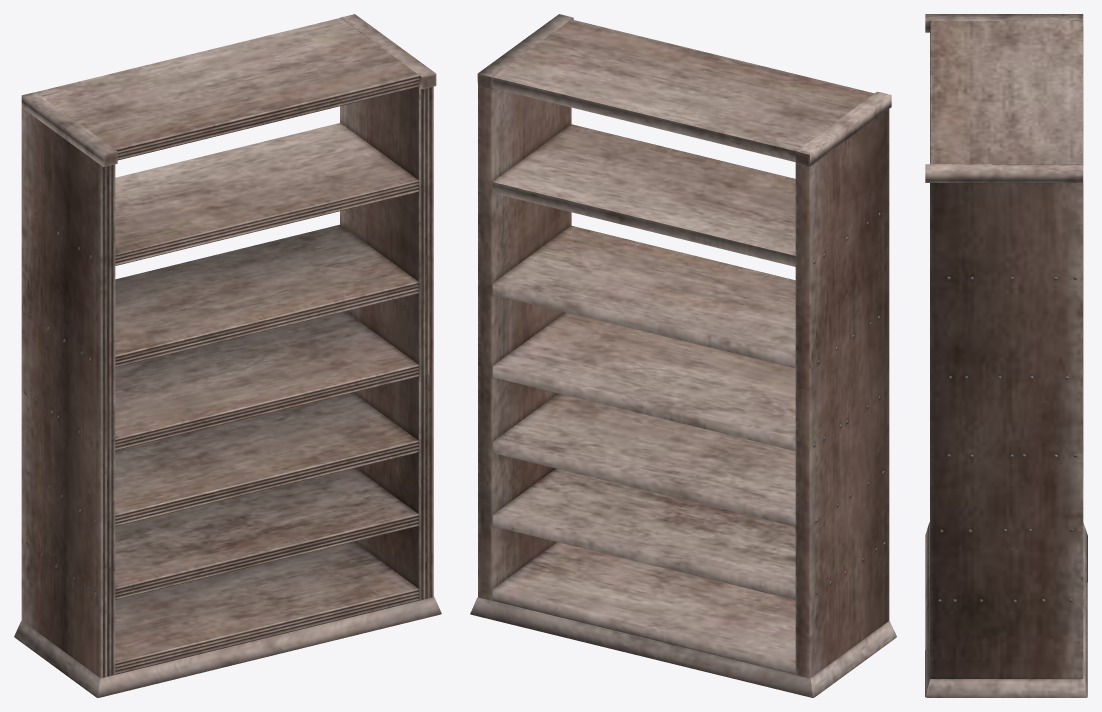
The model's file is bookshelf.glb.
3 views of the same model, side by side, from view 1: azimuth 30°, elevation 25°; view 2: azimuth 150°, elevation 25°; view 3: azimuth 270°, elevation 25° (orthographic). The views are drawn at different scales.
Parts seen in each view (by area): view 1: wooden_bookshelf_worn; view 2: wooden_bookshelf_worn; view 3: wooden_bookshelf_worn.
Part boxes in pixels (x1=…): wooden_bookshelf_worn: x1=14, y1=14, x2=441, y2=697; wooden_bookshelf_worn: x1=470, y1=14, x2=896, y2=697; wooden_bookshelf_worn: x1=925, y1=14, x2=1087, y2=697.
Bounding box in the file's own units: 1.37 × 2.06 × 0.5813.
1 material, 1 textured.
